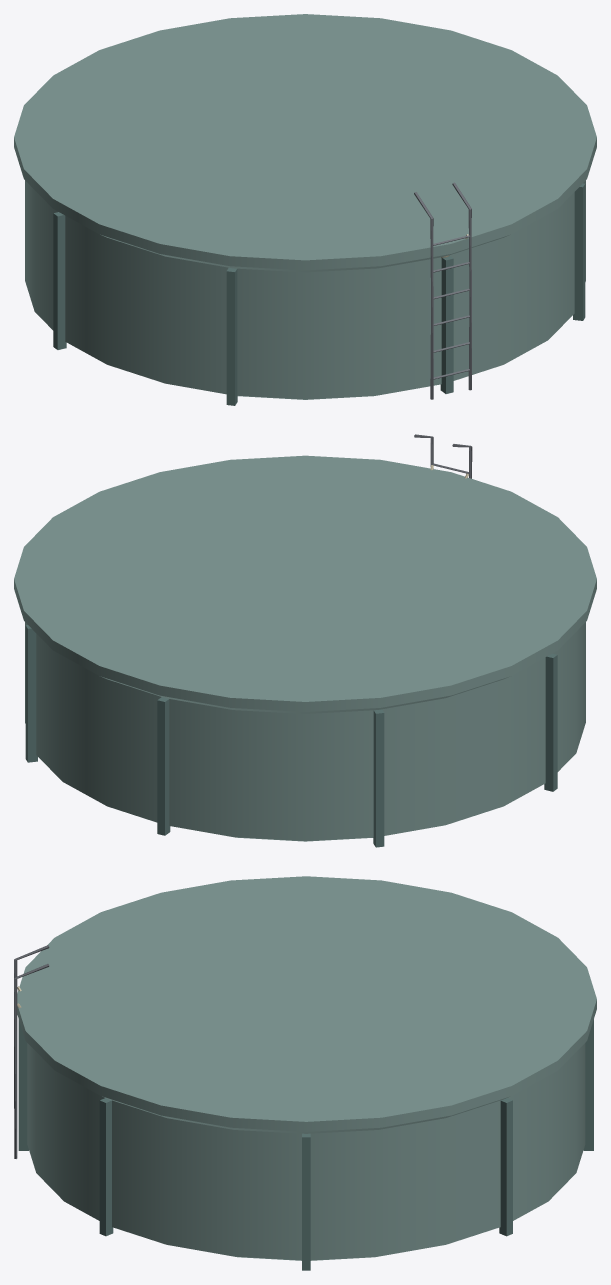
Rendered from bleach_vat.glb.
3 views of the same model, one above another, from view 1: azimuth 30°, elevation 25°; view 2: azimuth 150°, elevation 25°; view 3: azimuth 270°, elevation 25° (orthographic).
Parts seen in each view (by area): view 1: bleach_vat; view 2: bleach_vat; view 3: bleach_vat.
Part boxes in pixels (bbox=[...]): bleach_vat: bbox=[14, 14, 596, 405]; bleach_vat: bbox=[14, 434, 596, 847]; bleach_vat: bbox=[14, 876, 596, 1270].
Size of the model in its own units: 7.9 by 2.92 by 7.92.
